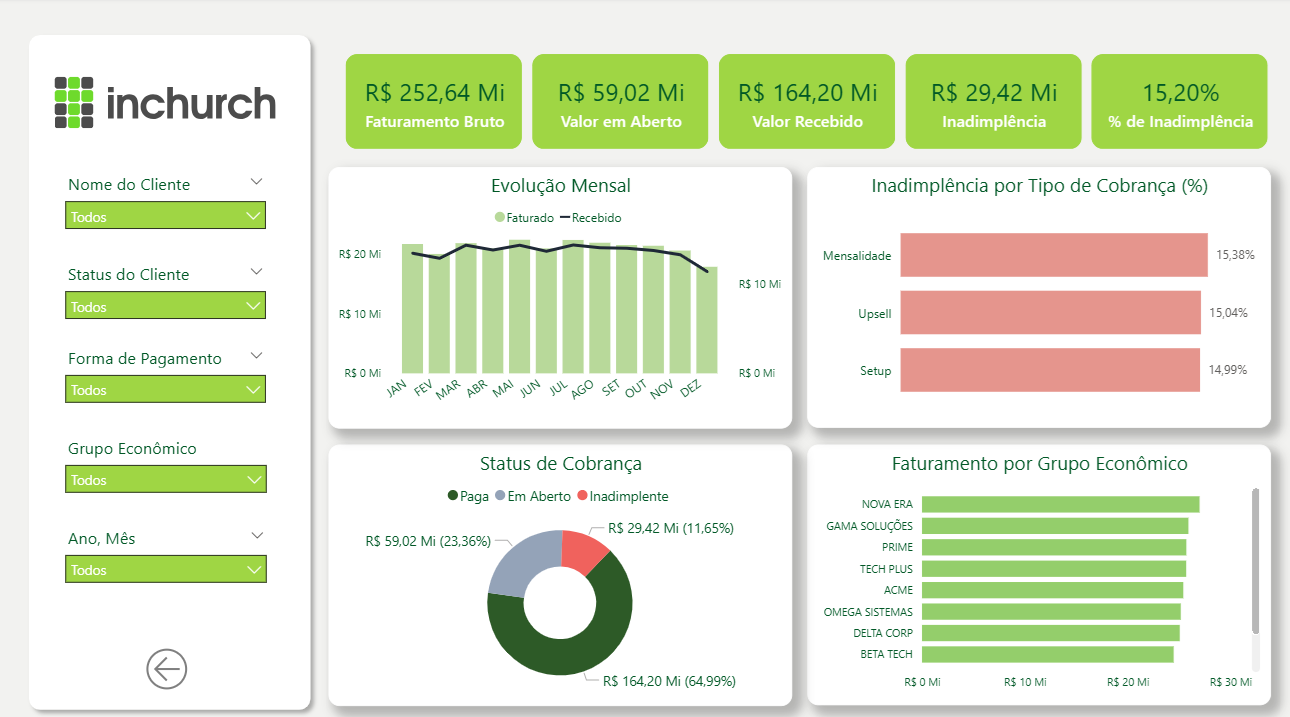

Layout of this report page (visuals, bound fields, positions):
{"tool":"powerbi","page":{"name":"Visão Financeira","canvas":[1280,720],"ordinal":1},"visuals":[{"type":"shape","box":[22.9,27.7,294.4,680.4],"z":0,"group":"g1"},{"type":"cardVisual","fields":{"Data":["Medidas (Visão Geral Financeira).VL_Total_Faturado","Medidas (Visão Geral Financeira).VL_Total_Aberto","Medidas (Visão Geral Financeira).VL_Total_Pago","Medidas (Visão Geral Financeira).Inadimplência","Medidas (Visão Geral Financeira).% de Inadimplência"]},"box":[326.2,39.1,939.5,127.2],"z":0},{"type":"barChart","title":"Faturamento por Grupo Econômico","fields":{"Category":["fBaseConsolidada.grupo_economico"],"Y":["Medidas (Visão Geral Financeira).VL_Total_Faturado"]},"box":[796.3,439.1,454.8,255.8],"z":1000},{"type":"donutChart","title":"Status de Cobrança","fields":{"Category":["fBaseConsolidada.status_cobranca"],"Y":["Medidas (Visão Geral Financeira).VL_Total_Faturado"]},"box":[326.9,439.1,455,257],"z":2000},{"type":"lineClusteredColumnComboChart","title":"Evolução Mensal","fields":{"Y2":["Medidas (Visão Geral Financeira).Total Pago (Caixa)"],"Y":["Medidas (Visão Geral Financeira).VL_Total_Faturado"],"Category":["dCalendario.Mês Abrev"]},"box":[326.9,166.5,455,257],"z":3000},{"type":"clusteredBarChart","title":"Inadimplência por Tipo de Cobrança (%)","fields":{"Category":["fBaseConsolidada.tipo_cobranca"],"Y":["Medidas (Visão Geral Financeira).% de Inadimplência"]},"box":[796.3,166.5,455,256],"z":4000},{"type":"slicer","fields":{"Values":["dCalendario.Date.Variation.Hierarquia de datas.Ano","dCalendario.Date.Variation.Hierarquia de datas.Mês"]},"box":[56.7,513.9,218,71.2],"z":4000,"group":"g1"},{"type":"group","id":"g1","title":"Grupo 1","box":[22.9,27.7,294.4,680.4],"z":5000},{"type":"image","box":[56.7,55.4,217.2,94.1],"z":5000,"group":"g1"},{"type":"actionButton","box":[141.2,633.4,56.7,53.1],"z":6000},{"type":"slicer","fields":{"Values":["fBaseConsolidada.grupo_economico"]},"box":[56.7,425.5,218.4,72.4],"z":8000,"group":"g1"},{"type":"slicer","fields":{"Values":["fBaseConsolidada.nome_cliente"]},"box":[56.7,166.4,217.2,72.4],"z":9000,"group":"g1"},{"type":"slicer","fields":{"Values":["fBaseConsolidada.forma_pagamento"]},"box":[56.7,337.2,217.2,72.4],"z":10000,"group":"g1"},{"type":"slicer","fields":{"Values":["fBaseConsolidada.status_cliente"]},"box":[56.7,254.8,217.2,66.4],"z":11000,"group":"g1"}]}

Visuals, with their boxes in screenshot pixels (x1, y1, x2, y2), scaled from the page's 1280x720 canvas onto the 1290x717 screenshot:
shape: locate(23, 28, 320, 705)
cardVisual - Medidas (Visão Geral Financeira).VL_Total_Faturado x Medidas (Visão Geral Financeira).VL_Total_Aberto: locate(329, 39, 1276, 166)
"Faturamento por Grupo Econômico" barChart: locate(803, 437, 1261, 692)
"Status de Cobrança" donutChart: locate(329, 437, 788, 693)
"Evolução Mensal" lineClusteredColumnComboChart: locate(329, 166, 788, 422)
"Inadimplência por Tipo de Cobrança (%)" clusteredBarChart: locate(803, 166, 1261, 421)
slicer - dCalendario.Date.Variation.Hierarquia de datas.Ano x dCalendario.Date.Variation.Hierarquia de datas.Mês: locate(57, 512, 277, 583)
"Grupo 1" group: locate(23, 28, 320, 705)
image: locate(57, 55, 276, 149)
actionButton: locate(142, 631, 199, 684)
slicer - fBaseConsolidada.grupo_economico: locate(57, 424, 277, 496)
slicer - fBaseConsolidada.nome_cliente: locate(57, 166, 276, 238)
slicer - fBaseConsolidada.forma_pagamento: locate(57, 336, 276, 408)
slicer - fBaseConsolidada.status_cliente: locate(57, 254, 276, 320)
